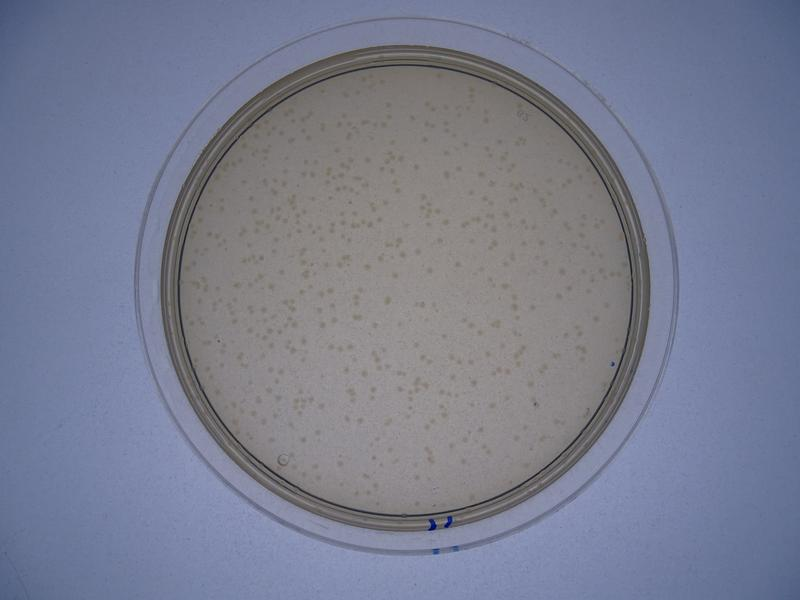colony: (273, 264, 290, 281), (450, 256, 466, 274), (437, 164, 452, 182), (409, 242, 423, 260), (403, 110, 418, 126), (354, 412, 367, 430), (421, 263, 438, 276), (387, 270, 401, 283), (590, 313, 603, 326)
